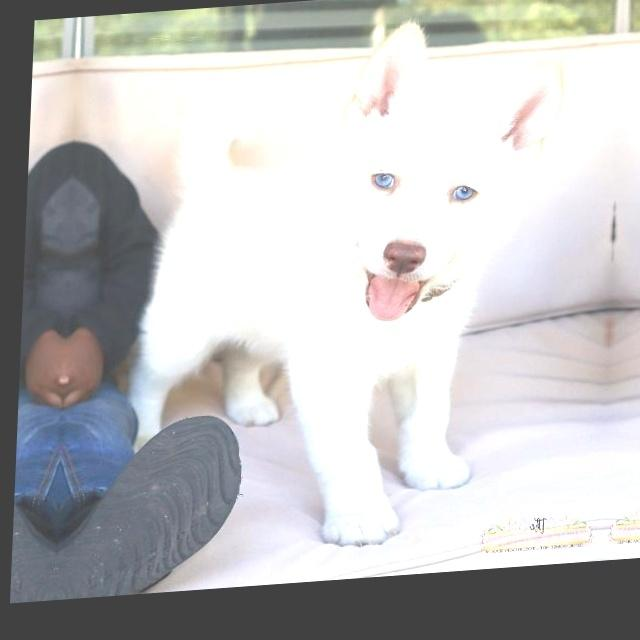dog: (143, 0, 568, 551)
